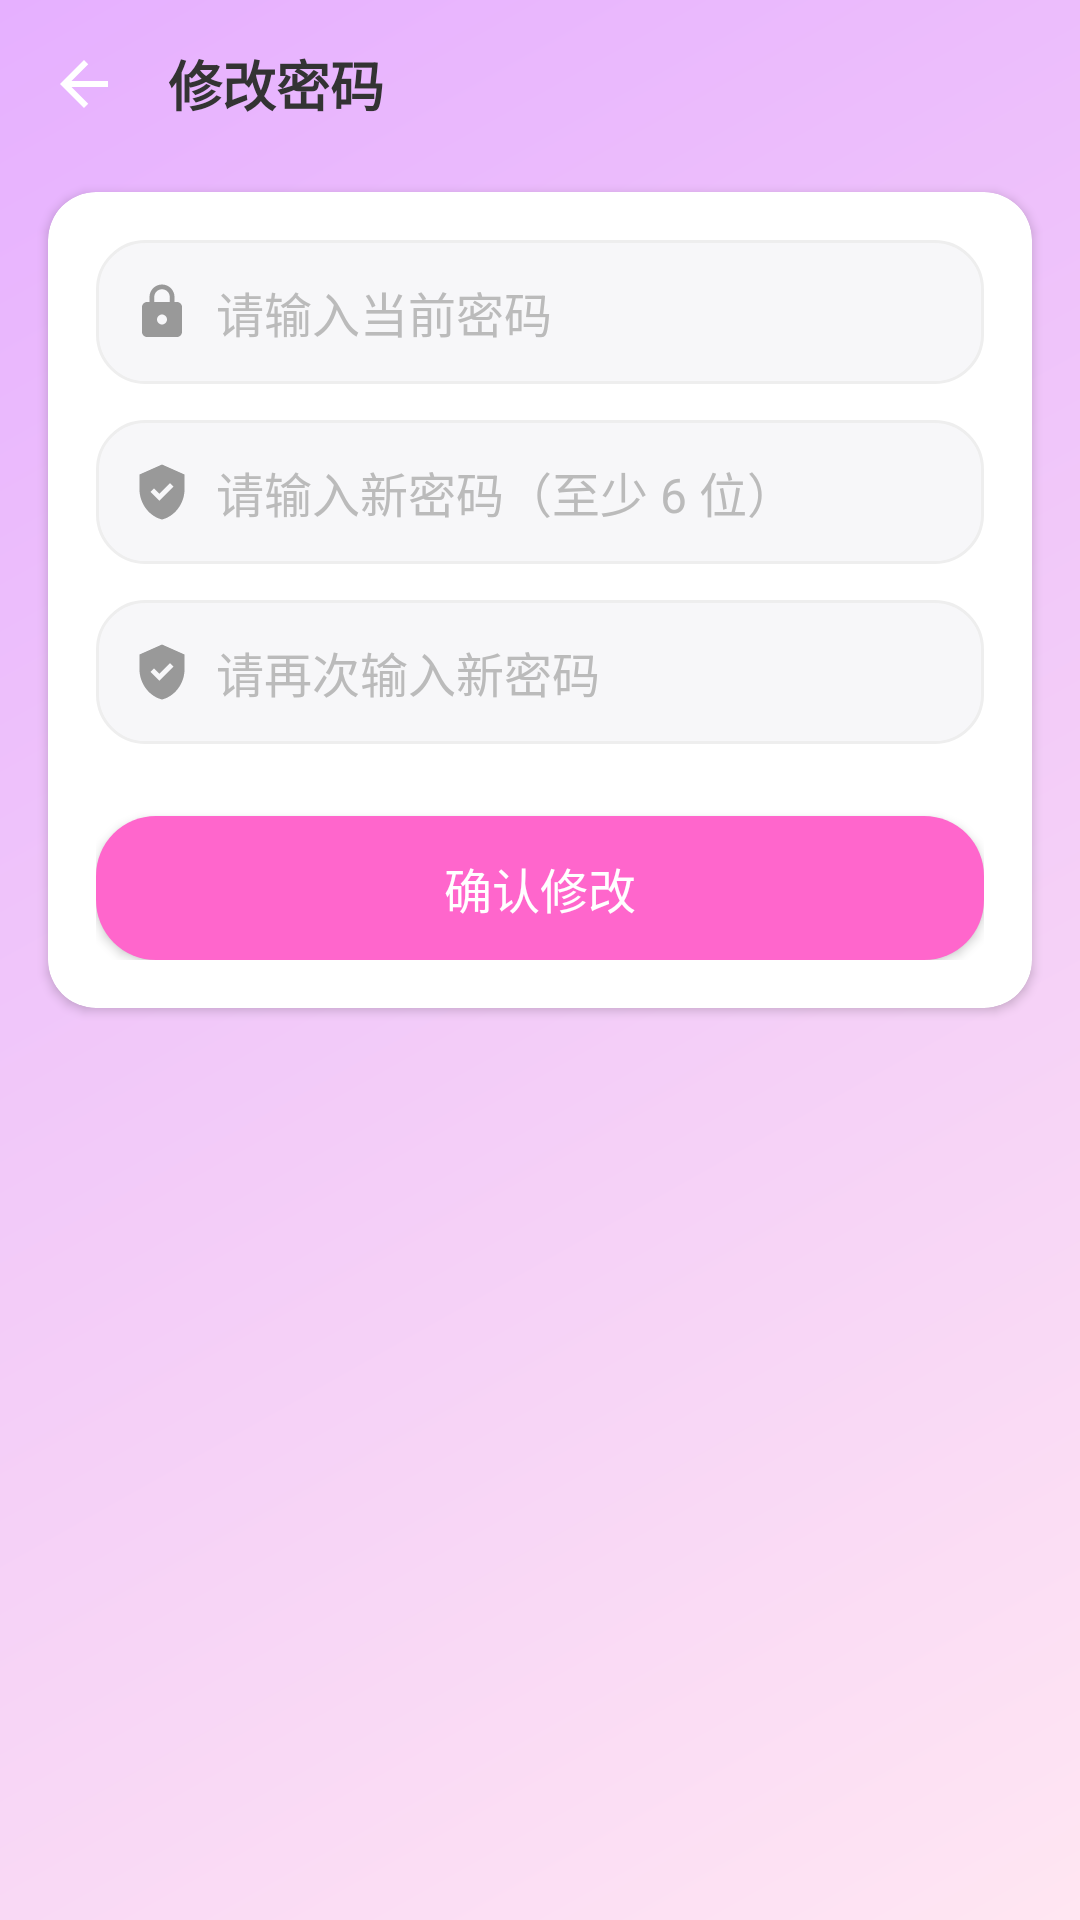

Screen size 1080 x 1920. Icon name, then its box in pixels as (x1, y1, x2, y2):
lock: (142, 284, 182, 337)
shield: (139, 464, 185, 520), (139, 644, 185, 700)
返回: (60, 60, 108, 108)
